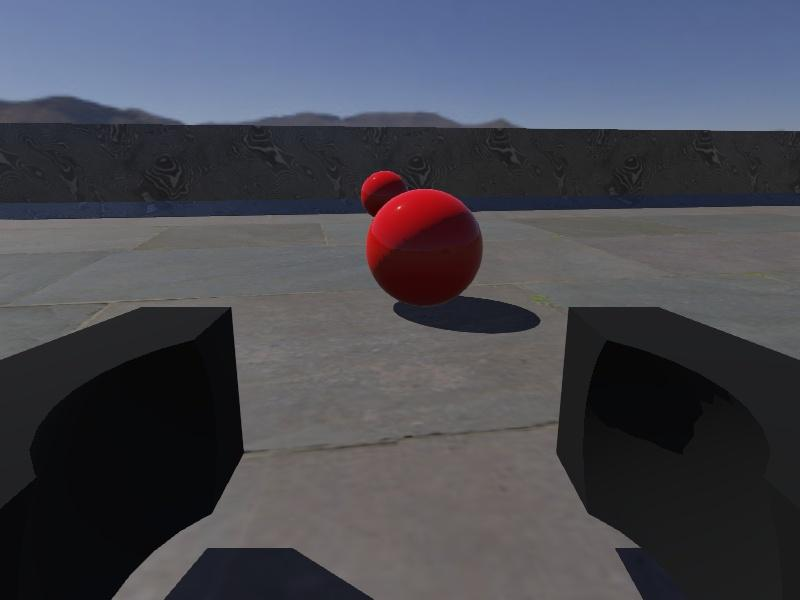red ball: (365, 188, 484, 308)
